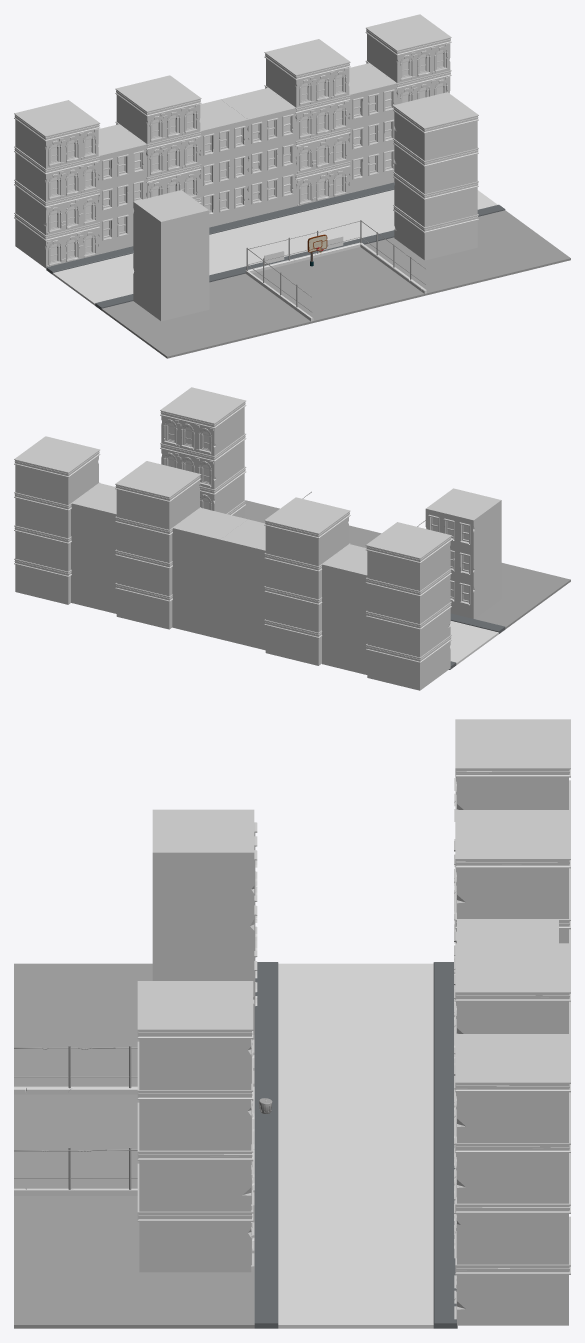
The model's file is Level_01.fbx.
3 renders of one model, top to bottom at view 1: azimuth 30°, elevation 25°; view 2: azimuth 150°, elevation 25°; view 3: azimuth 270°, elevation 25°, orthographic. The views are drawn at different scales.
Parts seen in each view (by area): view 1: Court_Floor, Sidewalk_01, SM_Bld_Apartment_Stack_08, SM_Bld_Apartment_Stack_05, SM_Bld_Apartment_Stack_02, SM_Bld_Apartment_Stack_07, SM_Bld_Apartment_Stack_03, SM_Bld_Apartment_Stack_01.001, SM_Bld_Apartment_Stack_04, SM_Bld_Apartment_Stack_01, SM_Bld_Apartment_Stack_01.002, SM_Bld_Apartment_Stack_06 (+2 smaller); view 2: SM_Bld_Apartment_Stack_05, SM_Bld_Apartment_Stack_03, SM_Bld_Apartment_Stack_02, SM_Bld_Apartment_Stack_04, SM_Bld_Apartment_Stack_08, SM_Bld_Apartment_Stack_07, SM_Bld_Apartment_Stack_01.001, SM_Bld_Apartment_Stack_01, SM_Bld_Apartment_Stack_06, SM_Bld_Apartment_Stack_01.002, Court_Floor, Sidewalk_01; view 3: Sidewalk_01, Court_Floor, SM_Bld_Apartment_Stack_08, SM_Bld_Apartment_Stack_04, SM_Bld_Apartment_Stack_07, SM_Bld_Apartment_Stack_03, SM_Bld_Apartment_Stack_02, SM_Bld_Apartment_Stack_05, Fence_Wall, SM_Bld_Apartment_Stack_01, Court_Lines, Road_Lines.
Part boxes in pixels (<box>): Court_Floor: <box>101,210,570,358</box>; Sidewalk_01: <box>46,182,505,310</box>; SM_Bld_Apartment_Stack_08: <box>393,92,478,260</box>; SM_Bld_Apartment_Stack_05: <box>14,100,100,268</box>; SM_Bld_Apartment_Stack_02: <box>264,39,350,206</box>; SM_Bld_Apartment_Stack_07: <box>133,190,209,321</box>; SM_Bld_Apartment_Stack_03: <box>115,75,201,203</box>; SM_Bld_Apartment_Stack_01.001: <box>221,88,296,217</box>; SM_Bld_Apartment_Stack_04: <box>365,14,451,104</box>; SM_Bld_Apartment_Stack_01: <box>199,99,248,227</box>; SM_Bld_Apartment_Stack_01.002: <box>348,63,397,193</box>; SM_Bld_Apartment_Stack_06: <box>98,124,146,254</box>; SM_Bld_Apartment_Stack_05: <box>365,522,451,690</box>; SM_Bld_Apartment_Stack_03: <box>264,497,350,665</box>; SM_Bld_Apartment_Stack_02: <box>115,461,201,629</box>; SM_Bld_Apartment_Stack_04: <box>14,436,100,604</box>; SM_Bld_Apartment_Stack_08: <box>160,387,246,518</box>; SM_Bld_Apartment_Stack_07: <box>425,488,501,618</box>; SM_Bld_Apartment_Stack_01.001: <box>172,508,247,638</box>; SM_Bld_Apartment_Stack_01: <box>220,519,265,650</box>; SM_Bld_Apartment_Stack_06: <box>322,544,367,674</box>; SM_Bld_Apartment_Stack_01.002: <box>71,483,116,613</box>; Court_Floor: <box>244,500,570,629</box>; Sidewalk_01: <box>449,613,505,669</box>; Sidewalk_01: <box>254,962,457,1328</box>; Court_Floor: <box>14,963,254,1328</box>; SM_Bld_Apartment_Stack_08: <box>137,981,254,1272</box>; SM_Bld_Apartment_Stack_04: <box>454,1034,570,1325</box>; SM_Bld_Apartment_Stack_07: <box>152,809,257,1034</box>; SM_Bld_Apartment_Stack_03: <box>454,810,570,1004</box>; SM_Bld_Apartment_Stack_02: <box>454,943,570,1203</box>; SM_Bld_Apartment_Stack_05: <box>454,719,570,943</box>; Fence_Wall: <box>14,1045,254,1195</box>; SM_Bld_Apartment_Stack_01: <box>454,920,558,1113</box>; Court_Lines: <box>14,1109,137,1179</box>; Road_Lines: <box>354,974,357,1315</box>.
Size of the model in its own units: 6210 by 1966 by 4021.
